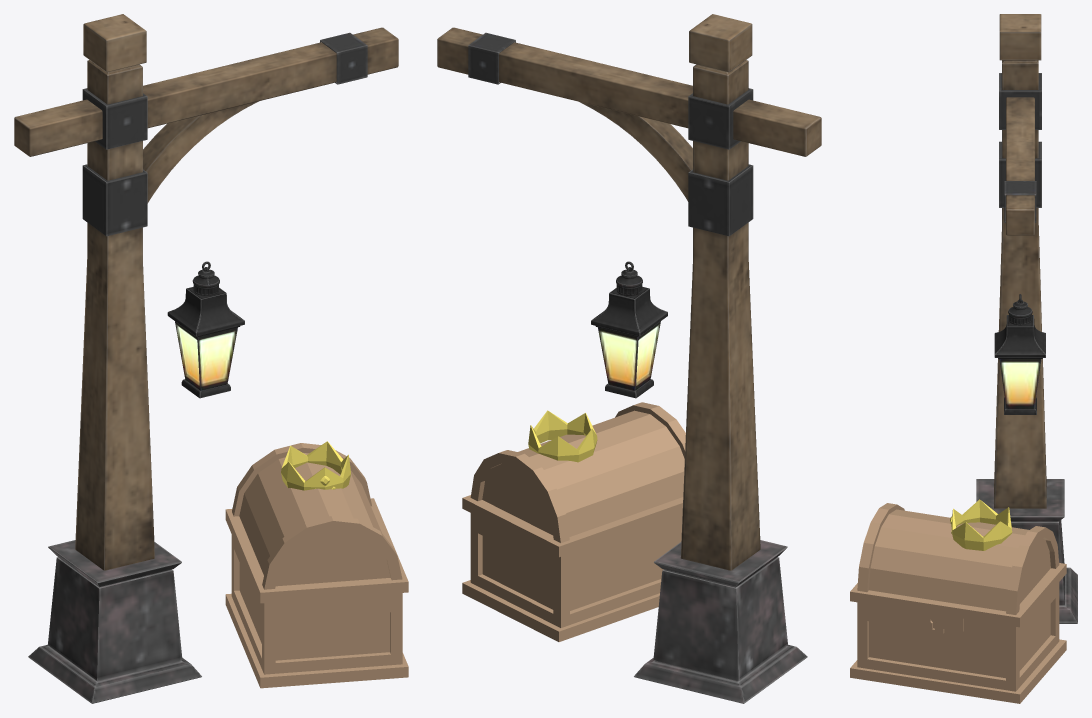
File: lantern.glb
The picture shows the model from 3 angles, left to right: view 1: azimuth 30°, elevation 25°; view 2: azimuth 150°, elevation 25°; view 3: azimuth 270°, elevation 25°; orthographic projection. The views are drawn at different scales.
Parts seen in each view (by area): view 1: LanternPole_Body, TreasureChest, LanternPole_Lantern, GoldRelicCrown; view 2: LanternPole_Body, TreasureChest, LanternPole_Lantern, GoldRelicCrown; view 3: TreasureChest, LanternPole_Body, LanternPole_Lantern, GoldRelicCrown.
Part boxes in pixels (x1,y1,x2,y2): LanternPole_Body: (14,14,398,703); TreasureChest: (225,443,408,688); LanternPole_Lantern: (167,261,244,398); GoldRelicCrown: (281,441,350,490); LanternPole_Body: (437,14,821,703); TreasureChest: (462,402,685,641); LanternPole_Lantern: (591,261,667,398); GoldRelicCrown: (528,410,597,462); TreasureChest: (850,503,1066,703); LanternPole_Body: (976,14,1077,623); LanternPole_Lantern: (994,294,1045,414); GoldRelicCrown: (950,499,1012,550).
Bounding box in the file's own units: 15.49 × 25.66 × 9.18.
Materials: 3 (1 with a texture image).
